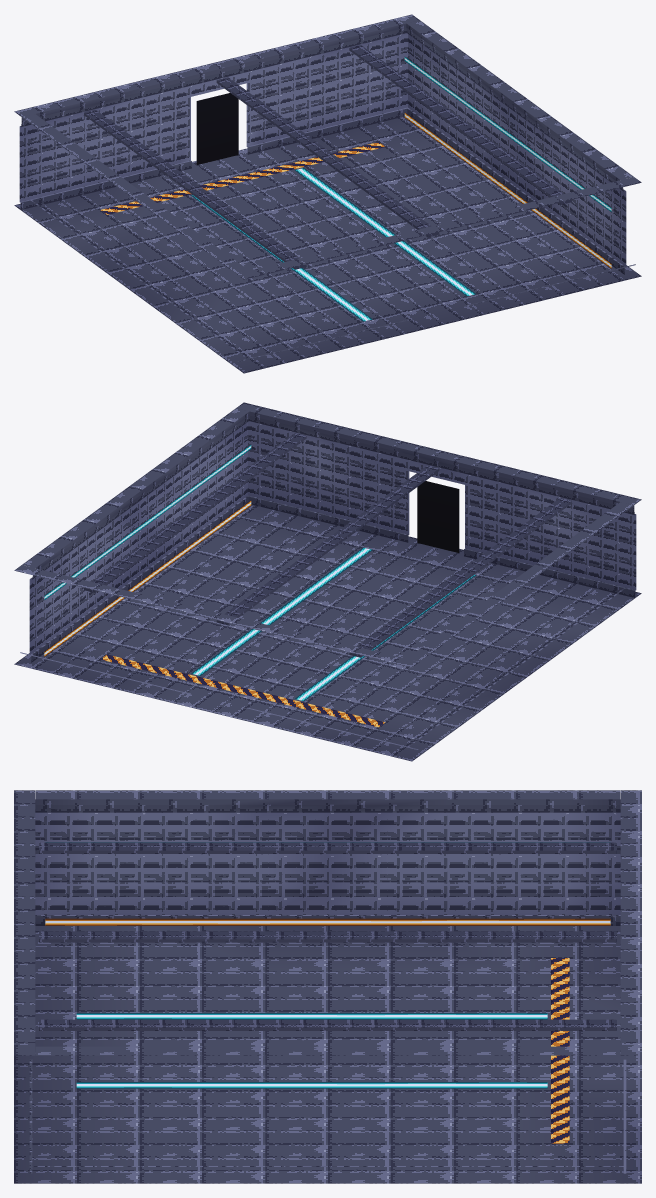
Rendered from cyroom.server__arena.glb.
3 views of the same model, one above another, from view 1: azimuth 30°, elevation 25°; view 2: azimuth 150°, elevation 25°; view 3: azimuth 270°, elevation 25° (orthographic). The views are drawn at different scales.
Visible parts, largest first — view 1: kit_shell_floor, kit_shell_walls, kit_shell_rig, kit_card_lights; view 2: kit_shell_floor, kit_shell_walls, kit_shell_rig, kit_card_lights; view 3: kit_shell_floor, kit_shell_walls, kit_shell_rig, kit_card_lights.
Part boxes in pixels (bbox=[...]): kit_shell_floor: bbox=[14, 116, 641, 373]; kit_shell_walls: bbox=[14, 14, 641, 361]; kit_shell_rig: bbox=[84, 45, 571, 269]; kit_card_lights: bbox=[191, 56, 611, 321]; kit_shell_floor: bbox=[14, 504, 641, 761]; kit_shell_walls: bbox=[14, 402, 641, 749]; kit_shell_rig: bbox=[84, 433, 571, 657]; kit_card_lights: bbox=[44, 444, 476, 701]; kit_shell_floor: bbox=[14, 926, 641, 1183]; kit_shell_walls: bbox=[14, 790, 641, 1173]; kit_shell_rig: bbox=[39, 842, 616, 1030]; kit_card_lights: bbox=[45, 842, 610, 1088].
Size of the model in its own units: 20 by 4.5 by 20.
7 materials, 7 textured.
